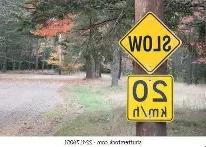Slow: (122, 13, 179, 71)
